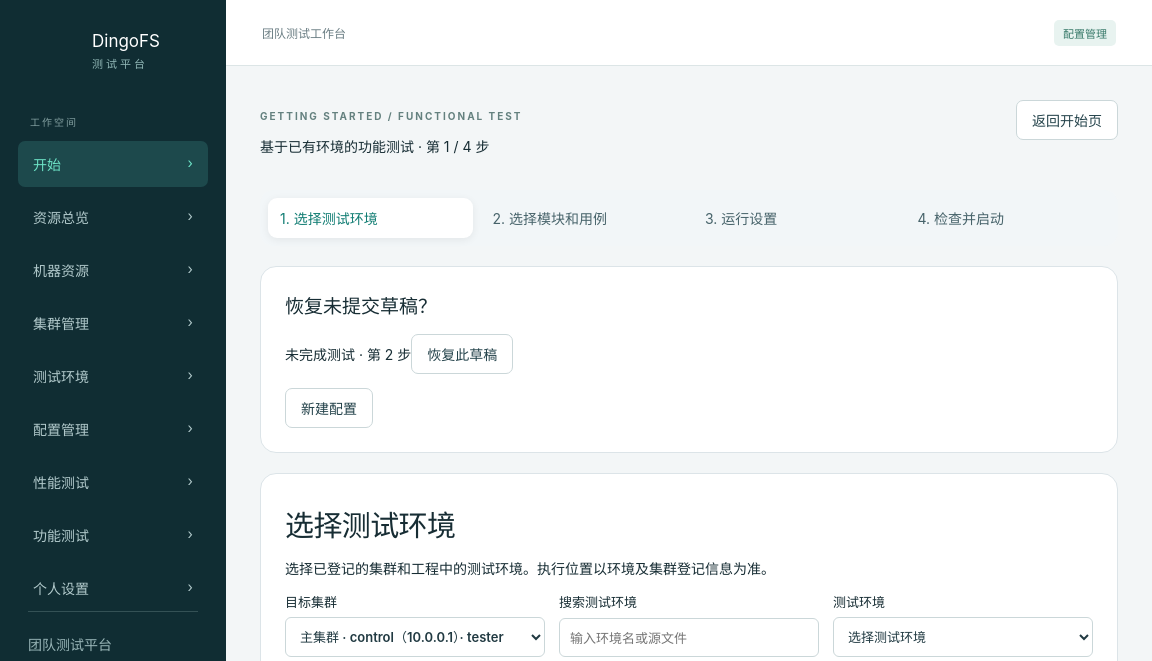
Test case: restoring a draft writes the explicit resume URL
The width and height of the screenshot is (1152, 661).
Expected: the heading "恢复未提交草稿？" is shown, [285,295,437,318]
Expected: the heading "选择测试环境" is shown, [285,508,455,543]
Click the button "恢复此草稿".
click(462, 354)  # box [411,334,513,374]
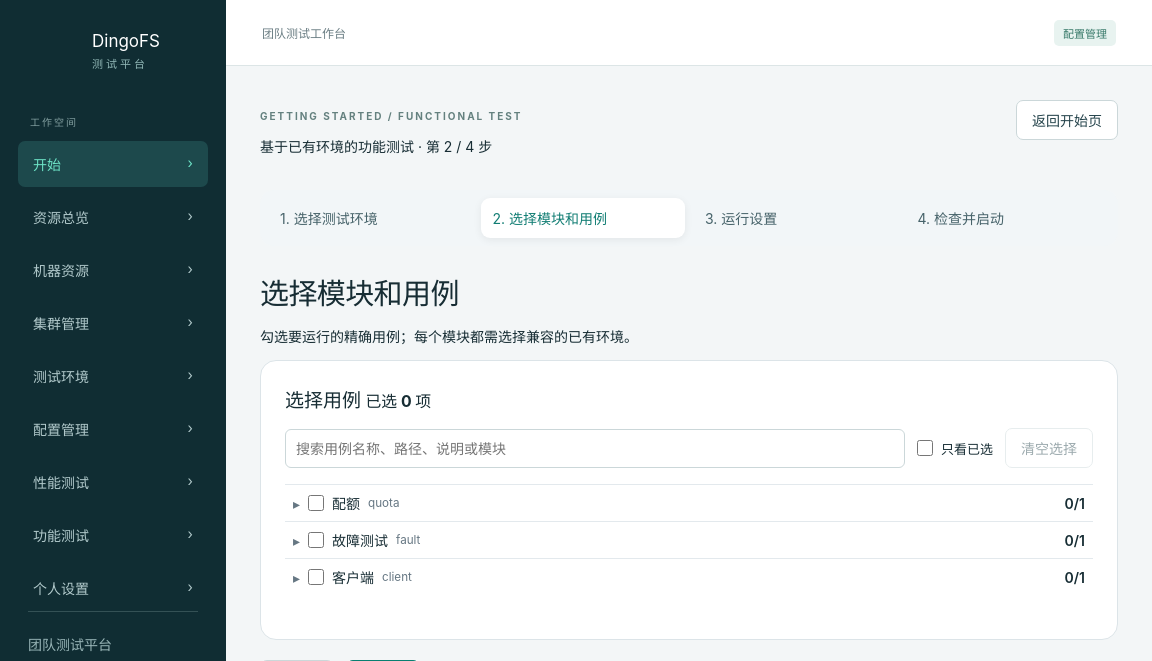
Now the heading "选择模块和用例" is shown, box [260,276,459,311]
